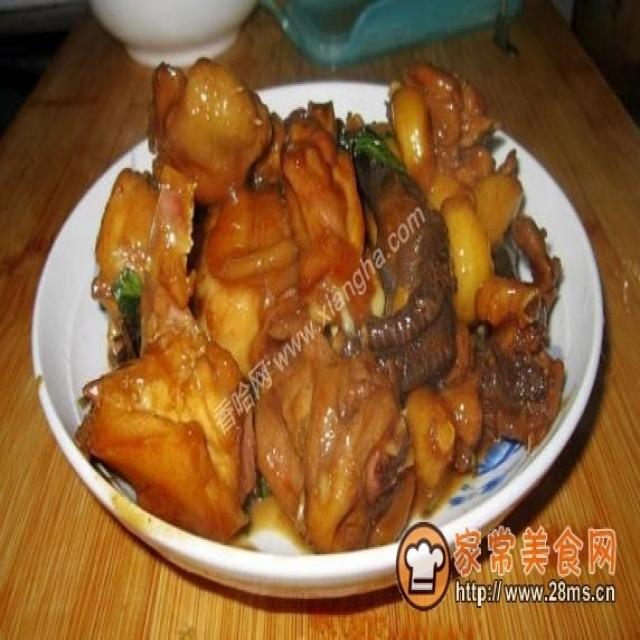鸡肉料理 含炸鸡: (56, 55, 590, 608)
